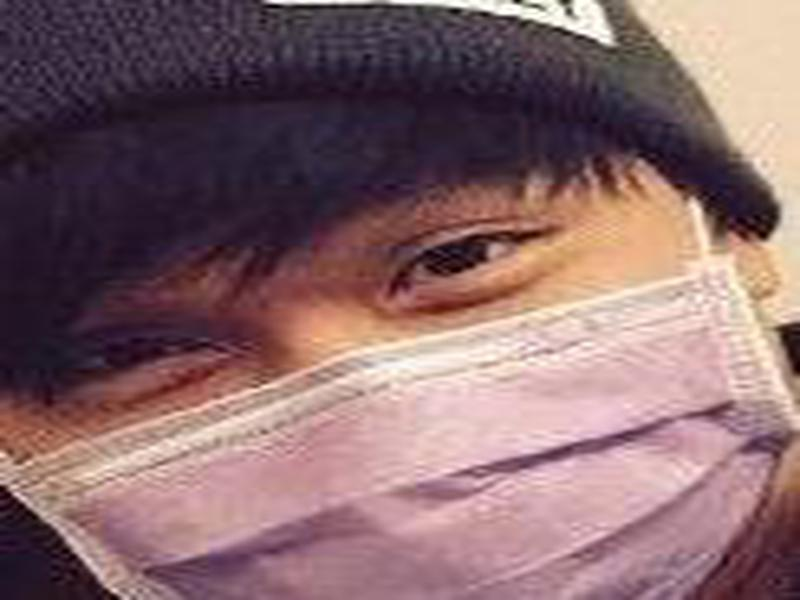with_mask: (1, 98, 790, 600)
